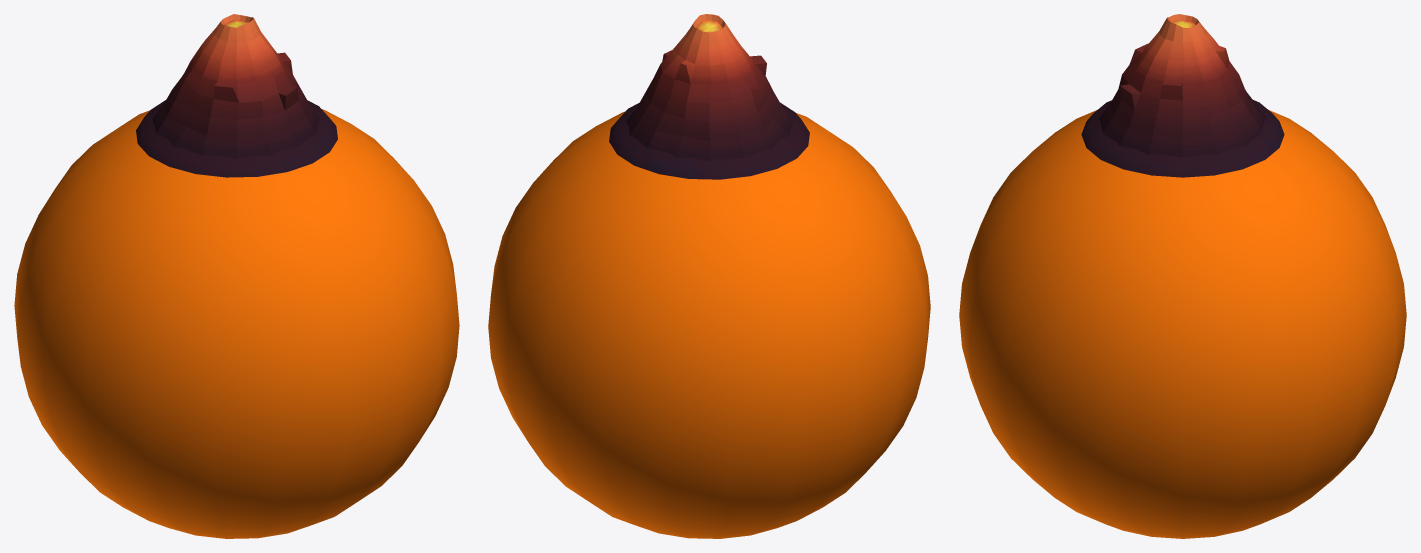
File: wakusei_03.fbx
3 views of the same model, side by side, from view 1: azimuth 30°, elevation 25°; view 2: azimuth 150°, elevation 25°; view 3: azimuth 270°, elevation 25° (orthographic).
Visible parts, largest first — view 1: polySurface1, pCylinder2, polySurface2; view 2: polySurface1, pCylinder2, polySurface2; view 3: polySurface1, pCylinder2, polySurface2.
Boxes of the visible parts, left/top/right/bottom form: polySurface1: left=14, top=109, right=459, bottom=538; pCylinder2: left=152, top=14, right=320, bottom=158; polySurface2: left=136, top=100, right=337, bottom=177; polySurface1: left=488, top=111, right=930, bottom=538; pCylinder2: left=626, top=14, right=793, bottom=161; polySurface2: left=609, top=102, right=809, bottom=179; polySurface1: left=959, top=110, right=1406, bottom=538; pCylinder2: left=1098, top=14, right=1266, bottom=157; polySurface2: left=1081, top=100, right=1284, bottom=177.
Bounding box in the file's own units: 12.49 × 15.42 × 12.49.
